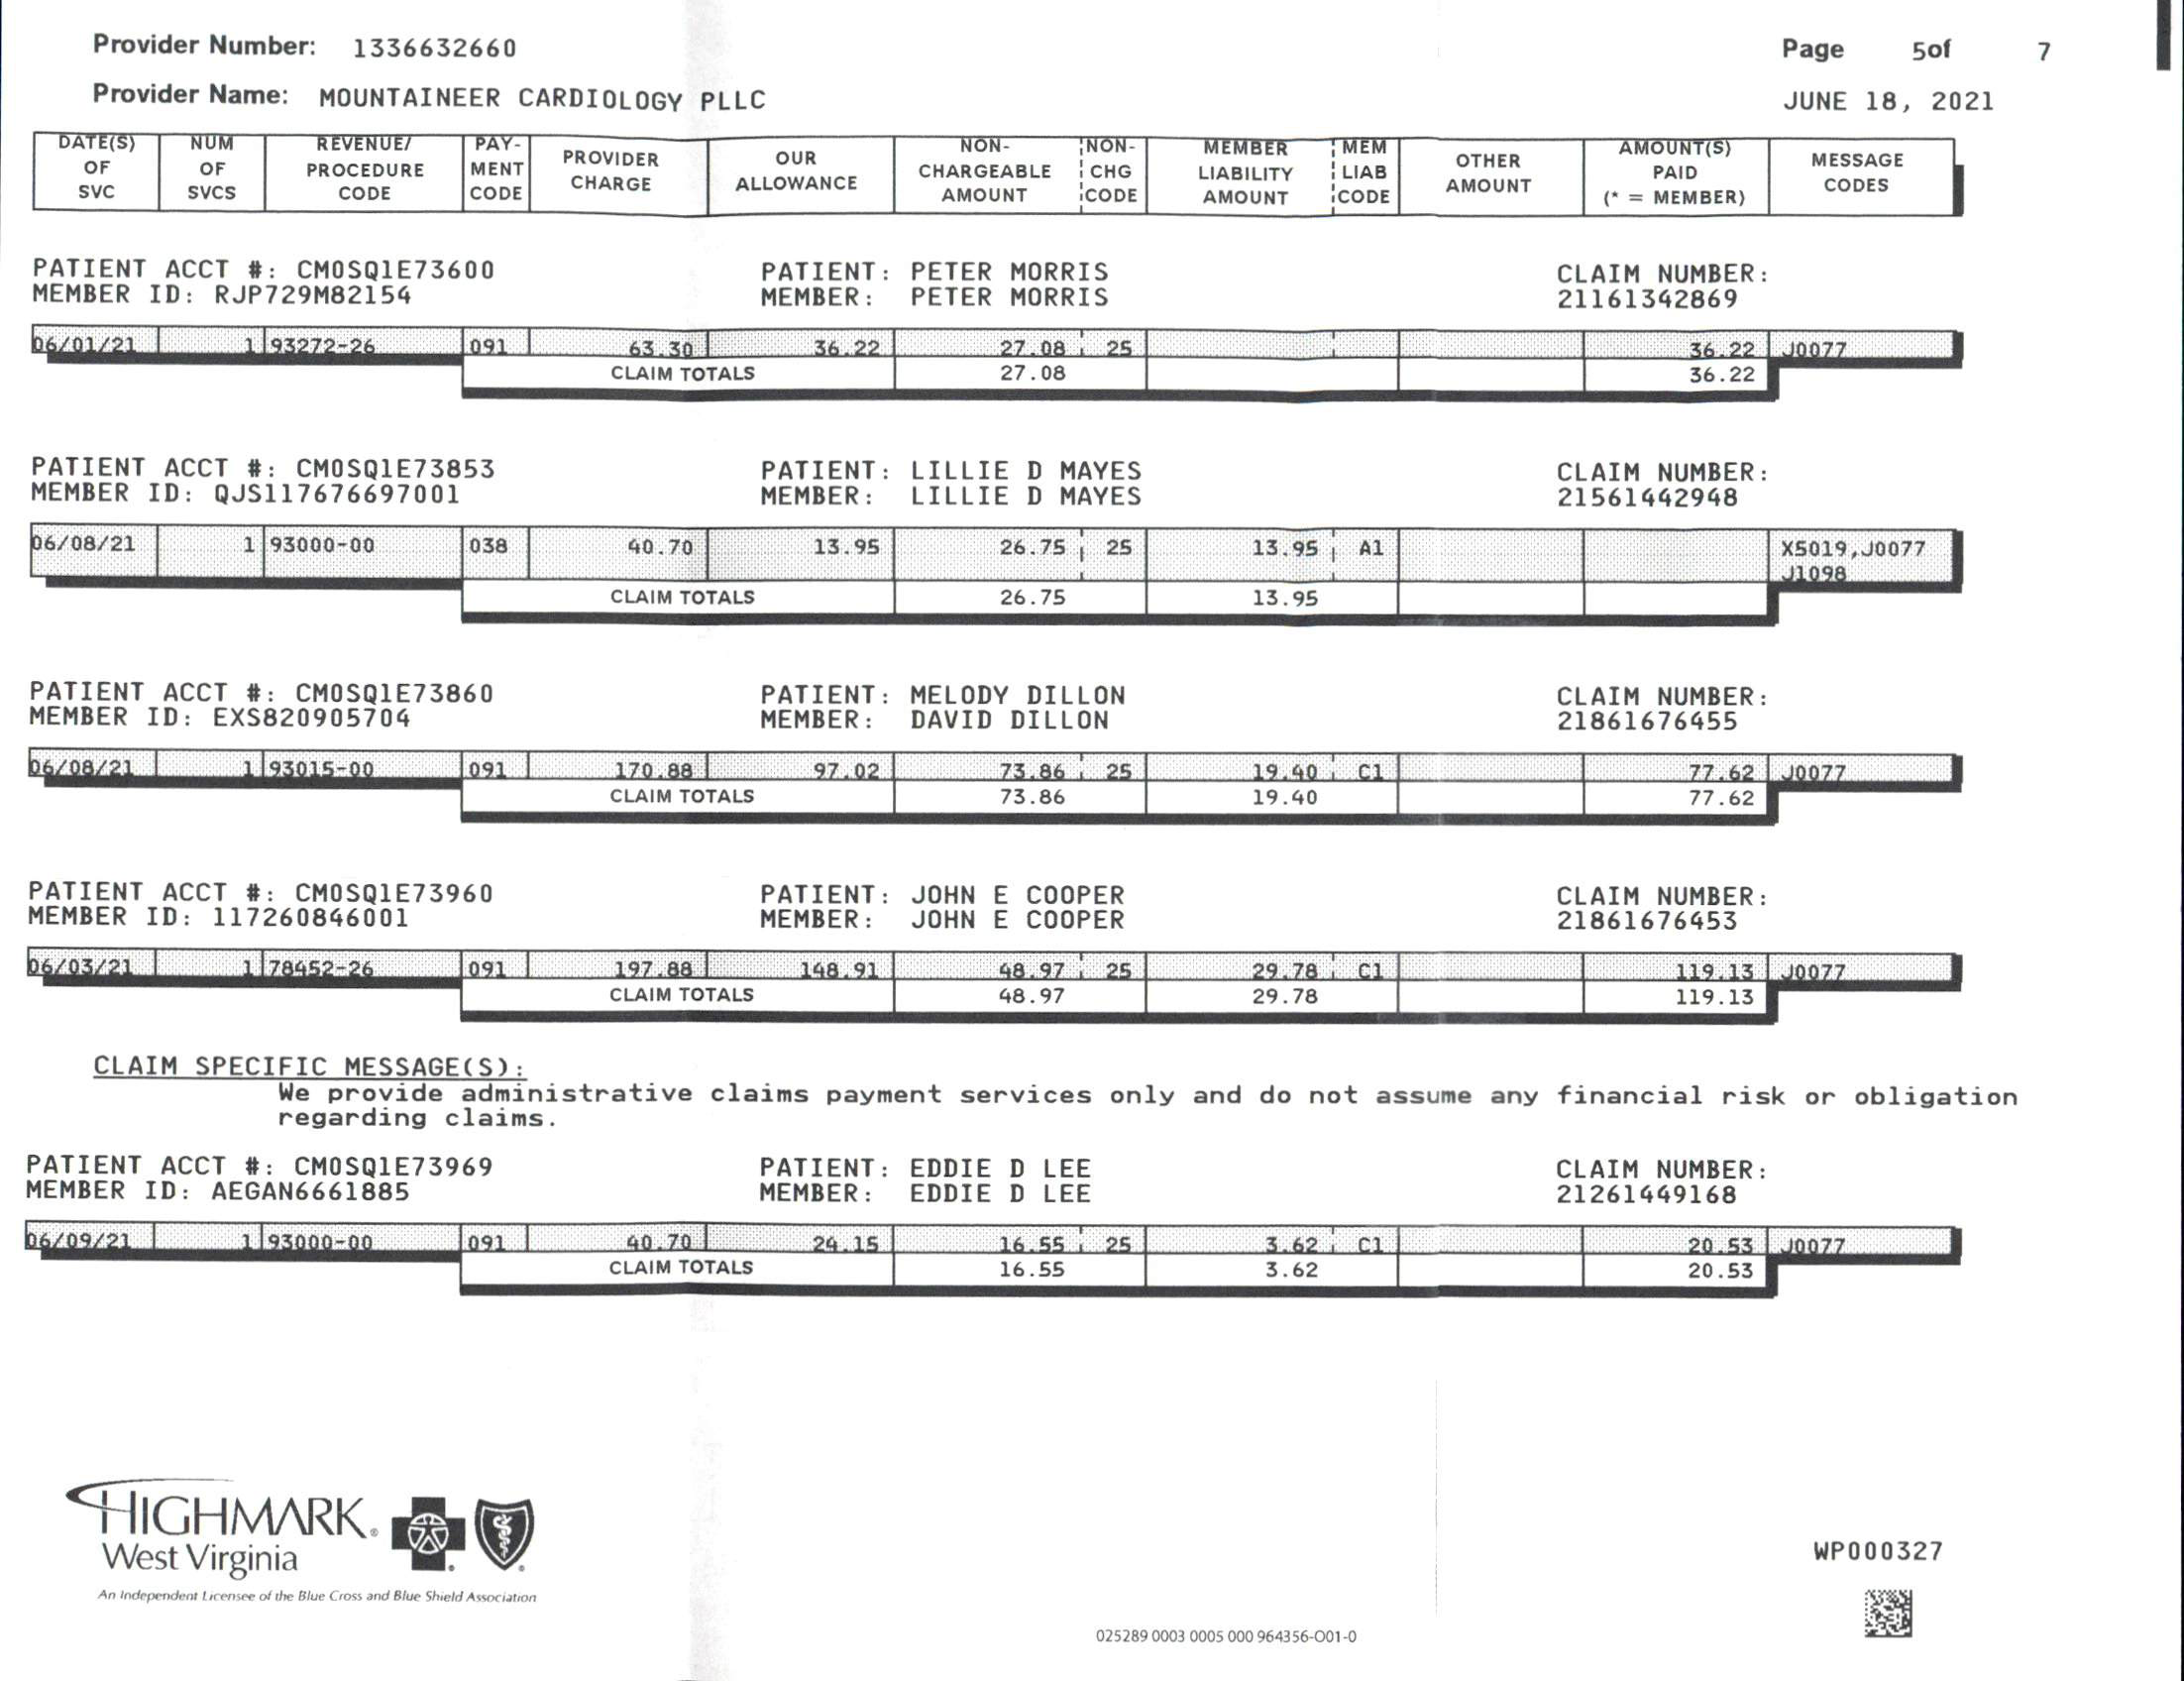data: (2, 427, 1792, 526), (7, 660, 1789, 747), (23, 233, 1803, 320), (12, 1134, 1776, 1215), (12, 862, 1774, 941), (76, 19, 782, 120)
table: (11, 115, 2041, 1312)
